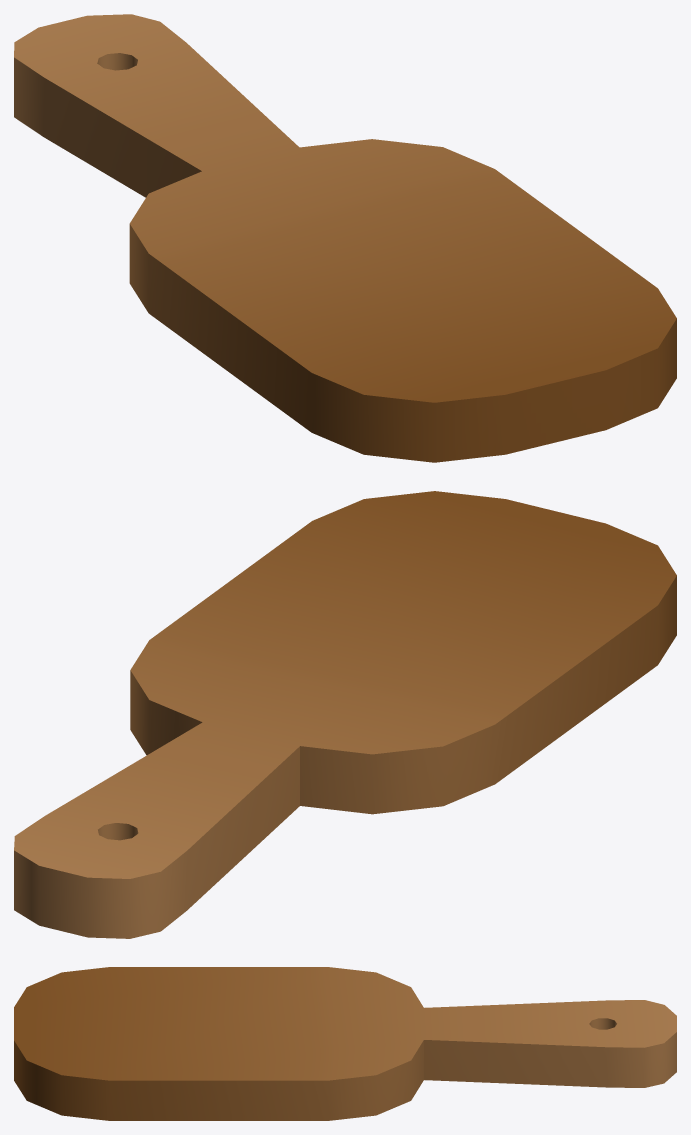
The model's file is Cutting Board_3.glb.
3 views of the same model, one above another, from view 1: azimuth 30°, elevation 25°; view 2: azimuth 150°, elevation 25°; view 3: azimuth 270°, elevation 25° (orthographic). The views are drawn at different scales.
Visible parts, largest first — view 1: Cutting Board_3; view 2: Cutting Board_3; view 3: Cutting Board_3.
Part boxes in pixels (bbox=[...]): Cutting Board_3: bbox=[14, 14, 676, 462]; Cutting Board_3: bbox=[14, 491, 676, 938]; Cutting Board_3: bbox=[14, 967, 676, 1120].
Size of the model in its own units: 0.2102 by 0.0348 by 0.5183.
1 material, 1 textured.
